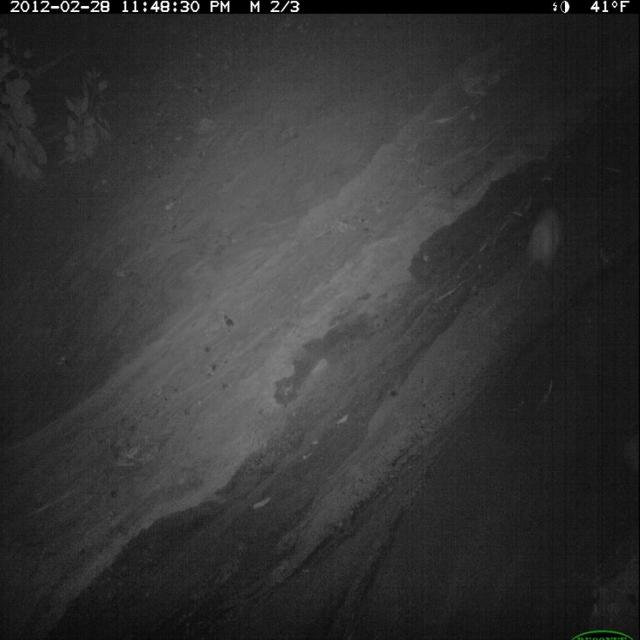opossum: (523, 197, 575, 283)
